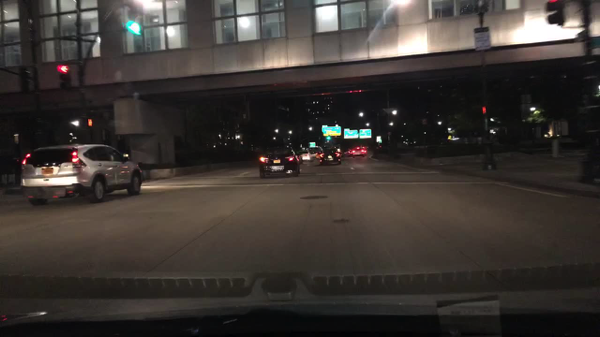car: (20, 143, 142, 205), (259, 146, 300, 177), (319, 147, 341, 164), (297, 151, 312, 161), (310, 147, 323, 157), (352, 147, 365, 157), (362, 147, 367, 154), (340, 152, 345, 159), (348, 149, 352, 155)
traffic light: (547, 0, 566, 27), (57, 64, 73, 91), (20, 67, 31, 92), (79, 115, 93, 129), (326, 137, 330, 141)
traffic sign: (474, 27, 490, 52), (321, 126, 340, 136), (344, 130, 359, 138), (575, 31, 585, 42), (359, 129, 371, 138), (592, 37, 599, 46), (308, 142, 315, 147), (376, 136, 381, 142), (321, 125, 328, 127), (344, 128, 350, 130)
